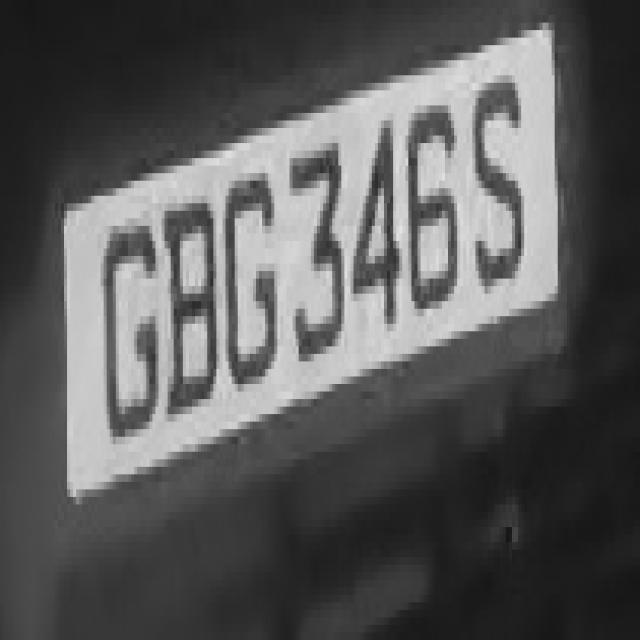3: (280, 136, 354, 347)
4: (350, 106, 406, 347)
6: (396, 90, 466, 316)
B: (150, 188, 226, 429)
G: (82, 218, 165, 452), (216, 166, 286, 377)
S: (466, 60, 536, 286)
